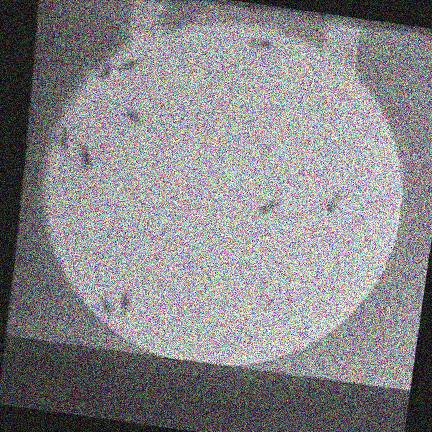fly: (99, 58, 142, 81), (112, 58, 142, 74), (121, 107, 143, 125), (255, 200, 278, 217), (55, 125, 68, 153), (325, 194, 341, 214), (79, 144, 91, 170), (99, 297, 113, 318), (119, 291, 130, 317), (97, 64, 111, 81)
